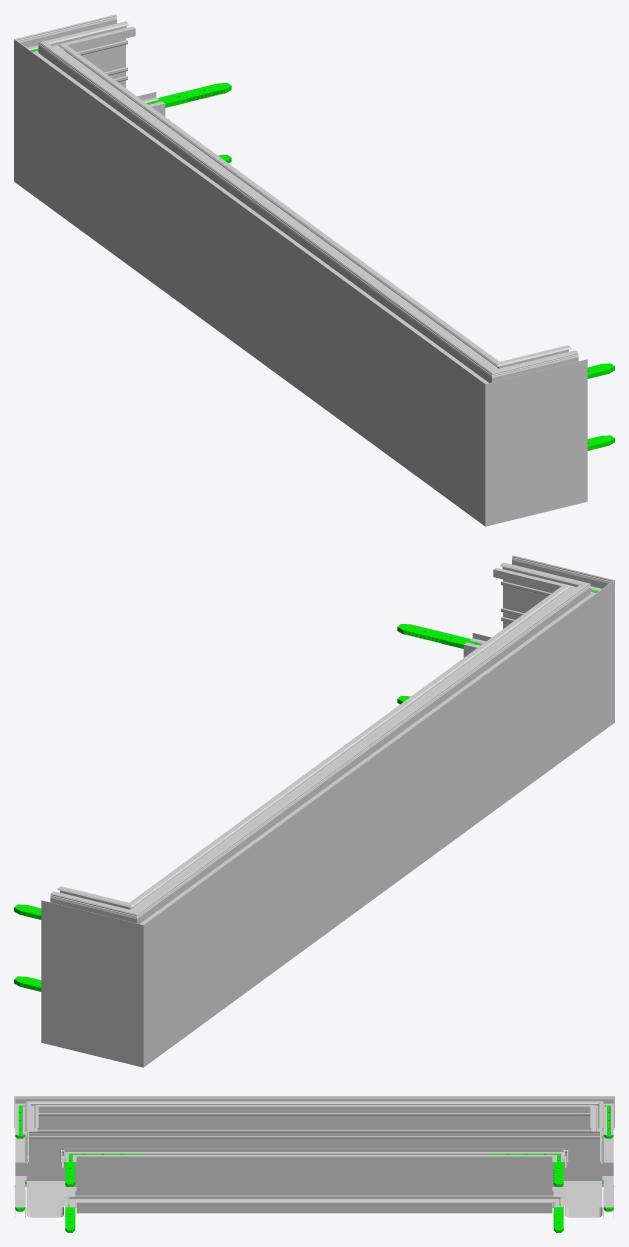
3 views of the same model, one above another, from view 1: azimuth 30°, elevation 25°; view 2: azimuth 150°, elevation 25°; view 3: azimuth 270°, elevation 25° (orthographic). The views are drawn at different scales.
Parts seen in each view (by area): view 1: 3DGeom-262, 3DGeom-270, 3DGeom-264, 3DGeom-10; view 2: 3DGeom-262, 3DGeom-264, 3DGeom-270, 3DGeom-10; view 3: 3DGeom-262, 3DGeom-264, 3DGeom-270, 3DGeom-10 (×4).
Part boxes in pixels (x1,y1,x2,y2): 3DGeom-262: (73, 74, 459, 483); 3DGeom-270: (426, 333, 587, 526); 3DGeom-264: (14, 14, 165, 224); 3DGeom-10: (146, 83, 231, 107); 3DGeom-262: (169, 615, 555, 1024); 3DGeom-264: (41, 874, 202, 1067); 3DGeom-270: (463, 555, 614, 765); 3DGeom-10: (397, 624, 482, 648); 3DGeom-262: (89, 1096, 539, 1213); 3DGeom-264: (540, 1096, 614, 1217); 3DGeom-270: (14, 1096, 88, 1217); 3DGeom-10 (×4): (65, 1154, 563, 1232).
Size of the model in its own units: 0.2562 by 0.2032 by 1.22.
